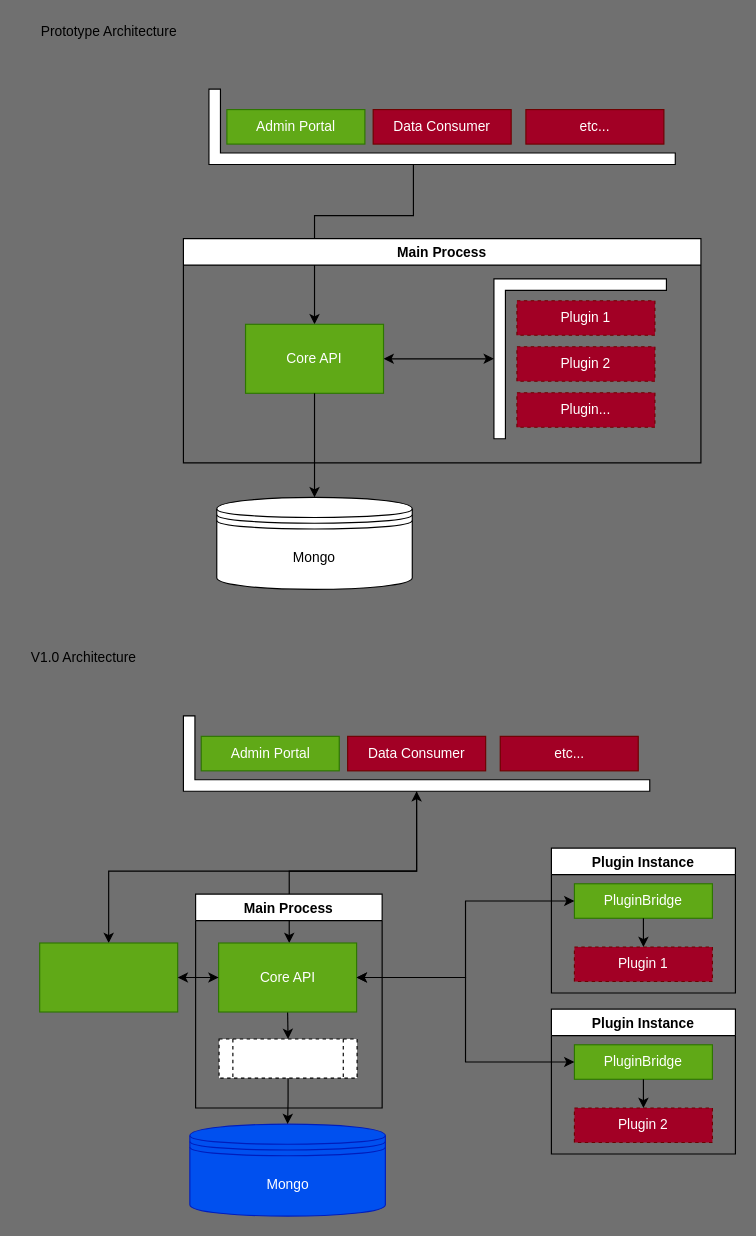
This 756x1236 diagram has some shape labels left out. Each missing label, with the centre of its shape:
"Auth" belongs at (108,977).
"Encryption" belongs at (287,1058).
